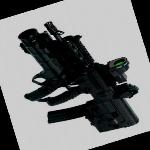Senapan: (12, 13, 144, 146)
